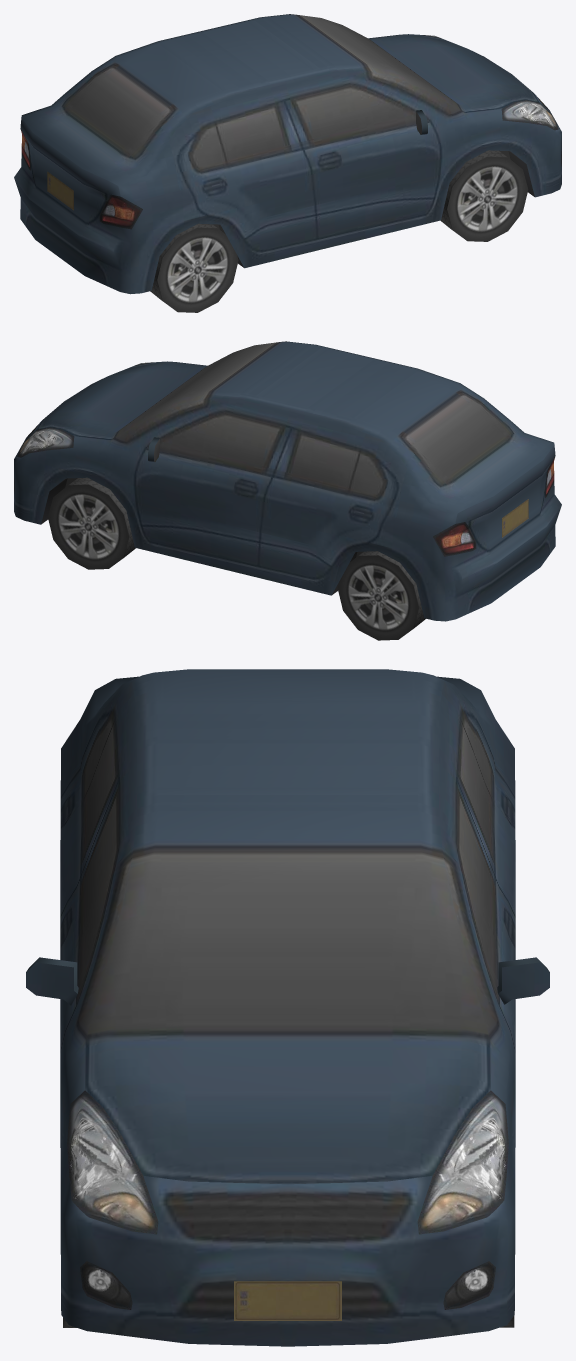
Rendered from sf_hatchback_04.glb.
3 renders of one model, top to bottom at view 1: azimuth 30°, elevation 25°; view 2: azimuth 150°, elevation 25°; view 3: azimuth 270°, elevation 25°, orthographic. The views are drawn at different scales.
Parts seen in each view (by area): view 1: Traffic_Hatchback_04_Body, Traffic_Hatchback_04_Wheel_Front_R_Traffic_Vehicle_Wheels_01, Traffic_Hatchback_04_Wheel_Back_R_Traffic_Vehicle_Wheels_01_, Traffic_Hatchback_04_Light, Traffic_Hatchback_04_Light_Break_Traffic_Vehicle_01_Light_3_; view 2: Traffic_Hatchback_04_Body, Traffic_Hatchback_04_Wheel_Front_L_Traffic_Vehicle_Wheels_01, Traffic_Hatchback_04_Wheel_Back_L_Traffic_Vehicle_Wheels_01_, Traffic_Hatchback_04_Light, Traffic_Hatchback_04_Light_Break_Traffic_Vehicle_01_Light_3_; view 3: Traffic_Hatchback_04_Body, Traffic_Hatchback_04_Light, Traffic_Hatchback_04_Light_Turn_L, Traffic_Hatchback_04_Light_Turn_R.
Part boxes in pixels (<box>): Traffic_Hatchback_04_Body: <box>14,14,561,294</box>; Traffic_Hatchback_04_Wheel_Front_R_Traffic_Vehicle_Wheels_01: <box>440,150,528,241</box>; Traffic_Hatchback_04_Wheel_Back_R_Traffic_Vehicle_Wheels_01_: <box>150,223,238,312</box>; Traffic_Hatchback_04_Light: <box>423,35,561,166</box>; Traffic_Hatchback_04_Light_Break_Traffic_Vehicle_01_Light_3_: <box>20,129,142,229</box>; Traffic_Hatchback_04_Body: <box>14,341,561,621</box>; Traffic_Hatchback_04_Wheel_Front_L_Traffic_Vehicle_Wheels_01: <box>48,477,135,569</box>; Traffic_Hatchback_04_Wheel_Back_L_Traffic_Vehicle_Wheels_01_: <box>337,551,425,640</box>; Traffic_Hatchback_04_Light: <box>14,362,152,493</box>; Traffic_Hatchback_04_Light_Break_Traffic_Vehicle_01_Light_3_: <box>433,457,554,556</box>; Traffic_Hatchback_04_Body: <box>26,669,549,1346</box>; Traffic_Hatchback_04_Light: <box>67,1090,508,1309</box>; Traffic_Hatchback_04_Light_Turn_L: <box>417,1193,481,1234</box>; Traffic_Hatchback_04_Light_Turn_R: <box>94,1193,158,1234</box>.
Size of the model in its own units: 4 by 1.55 by 1.91.
Materials: 3 (3 with a texture image).
